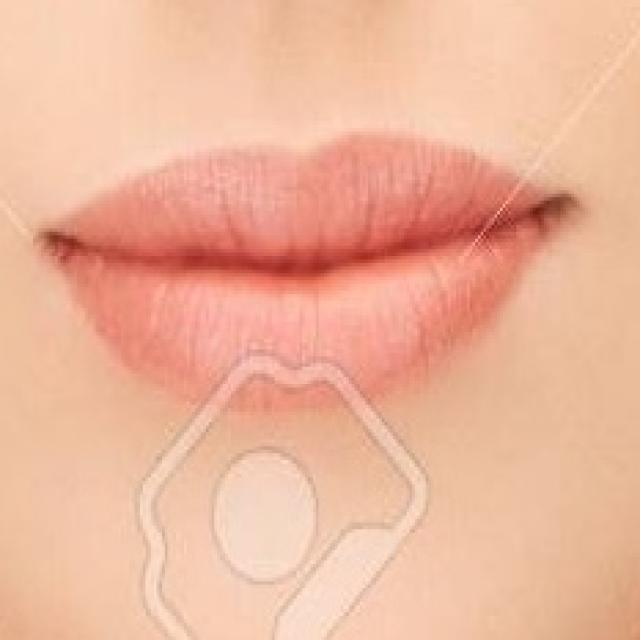closed-mouth: (30, 122, 582, 420)
